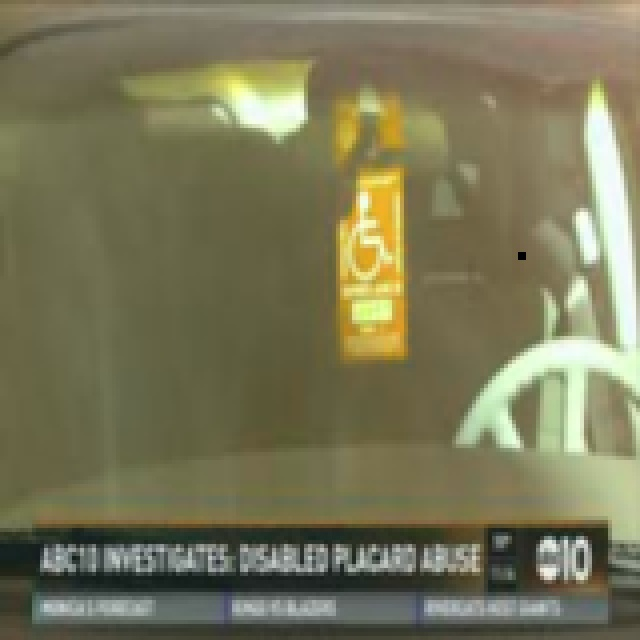ISA: (346, 185, 397, 293)
